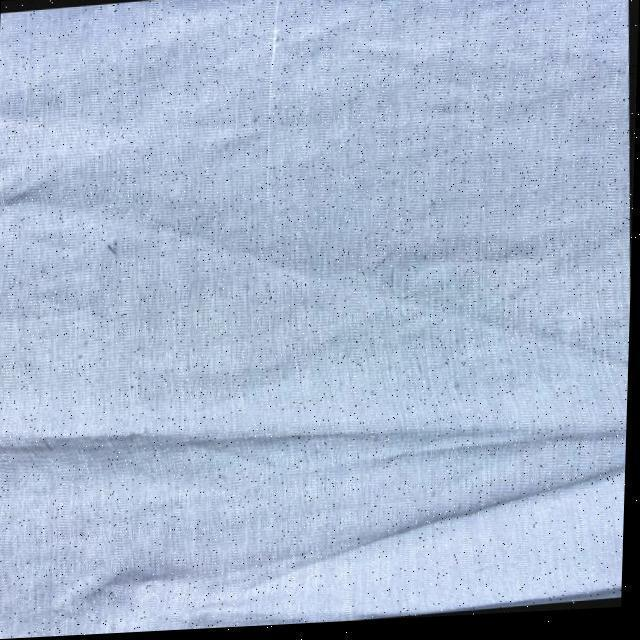broken_yarn: (0, 423, 518, 460)
